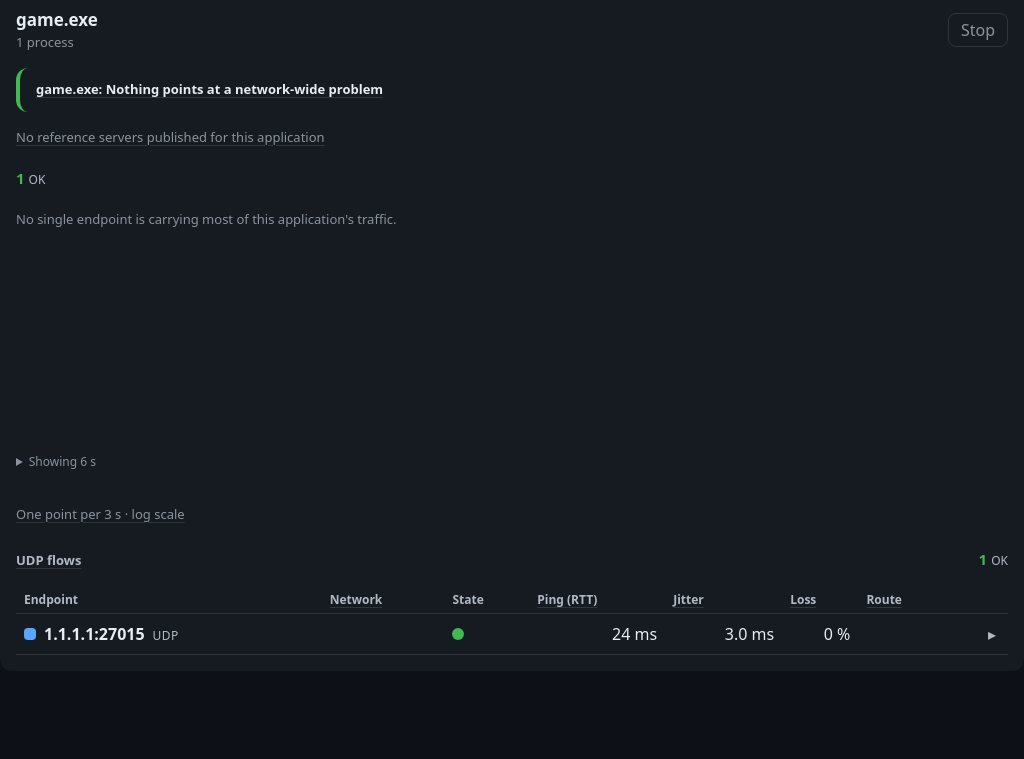
Scenario: AppCard › names the adapter, not only the address, so a VPN change is recognisable
Click the button "▸" at (992, 634), box [984,622,1000,646]
(page scrolled)
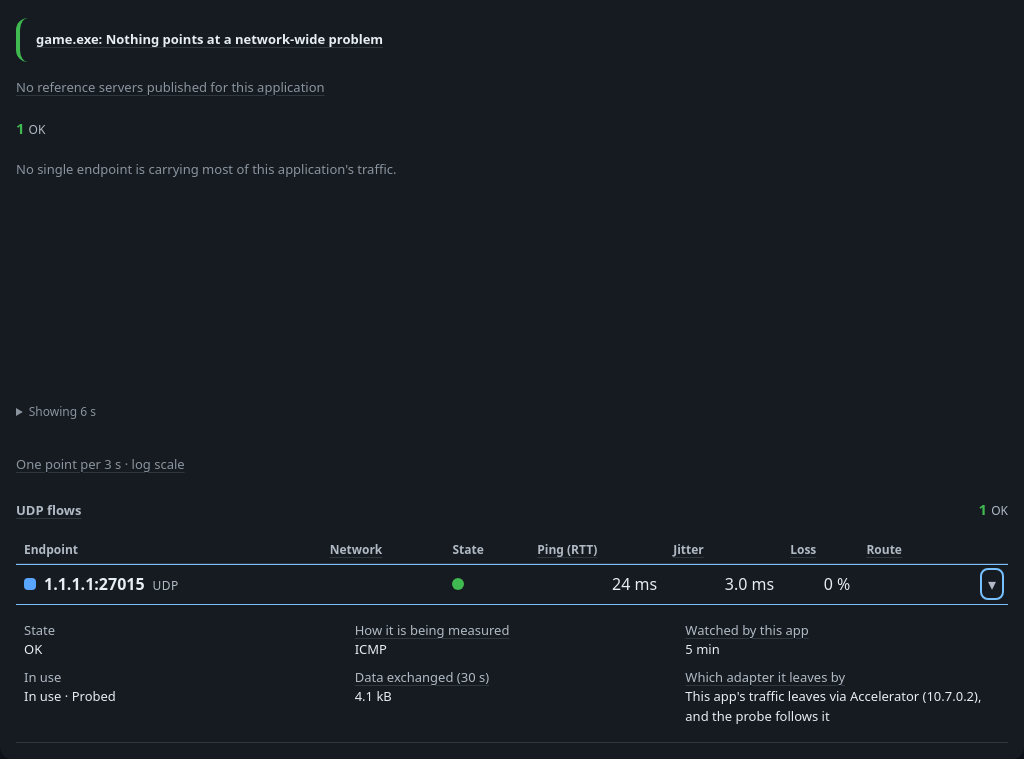
Expected: the text "leaves via Accelerator (10.7.0.2)" is shown, [685,687,981,725]
